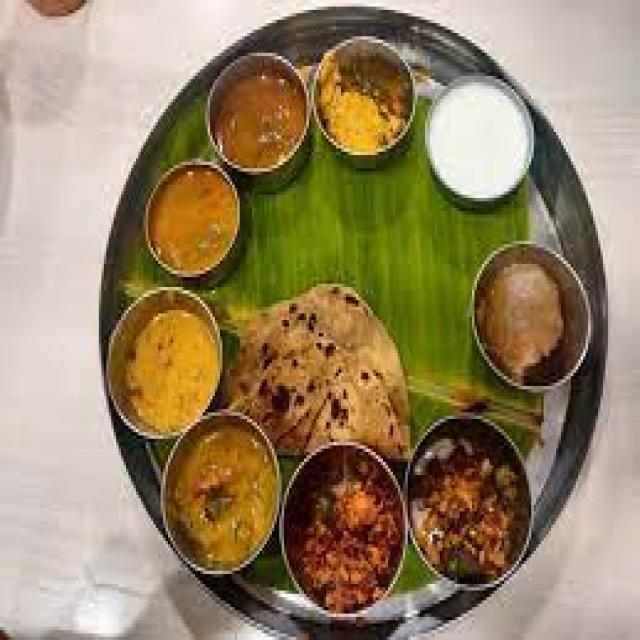curd: (416, 57, 546, 208)
dal: (111, 300, 225, 432)
roti: (222, 276, 418, 464)
sambar-rasam: (470, 251, 583, 377), (207, 51, 311, 174)
veg-fry: (285, 441, 410, 619), (156, 415, 284, 581), (308, 29, 427, 170)
